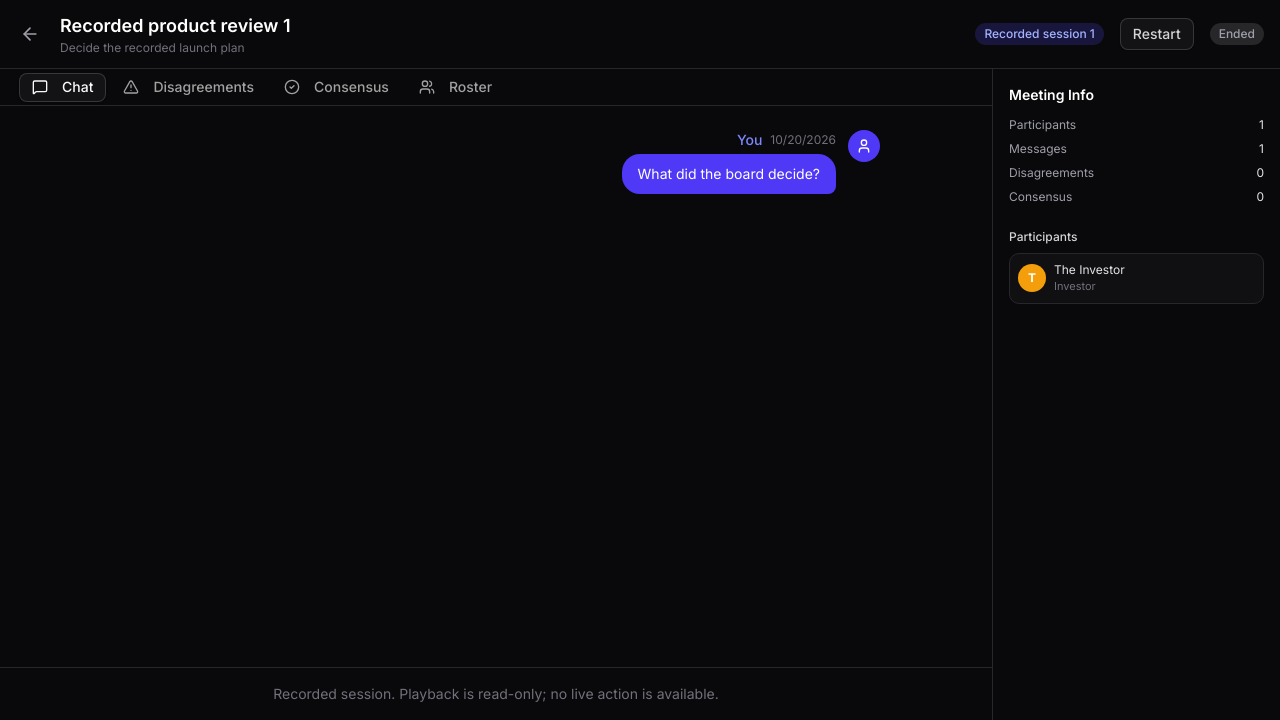
Scenario: recorded replay runtime › restarts into a fresh epoch and replaces recorded records
Expected: the heading "Recorded product review 1" is shown, 60,15 -> 290,36
Click the button "Restart": x=1157, y=34 1120,18 -> 1194,50
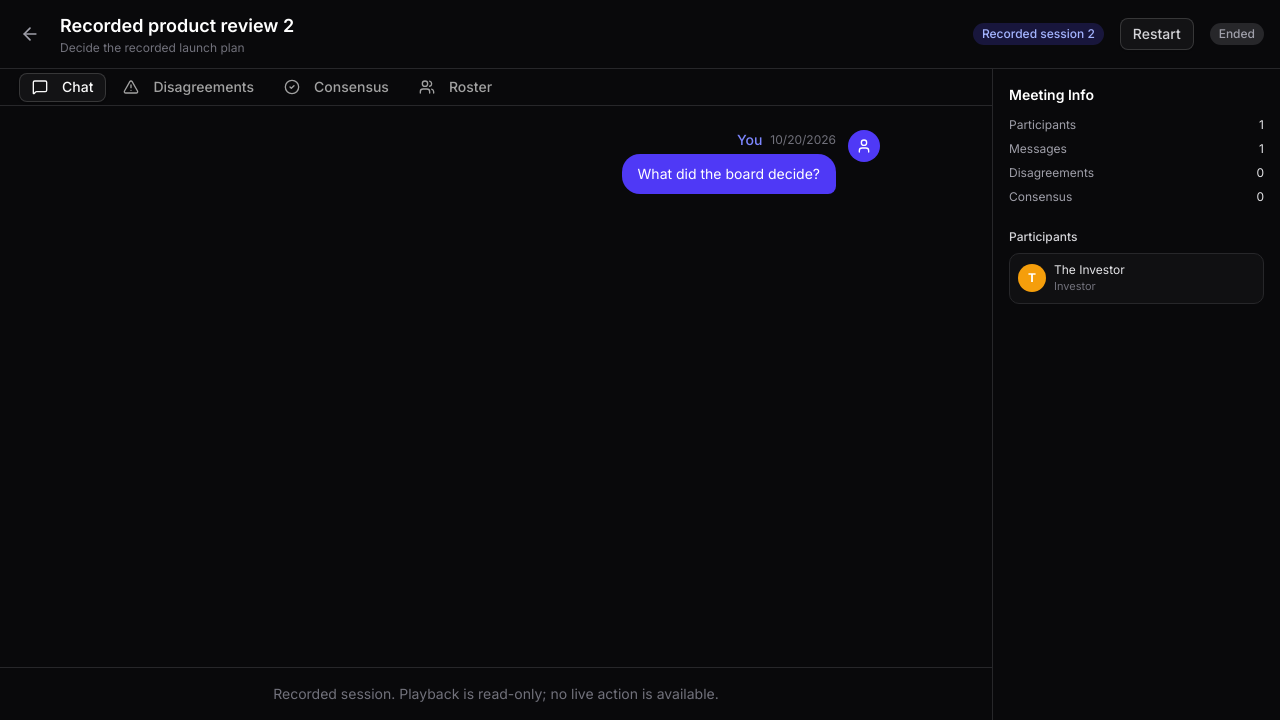
Expected: the heading "Recorded product review 2" is shown, 60,15 -> 294,36
Expected: the heading "Recorded product review 1" is gone
Expected: the text "Recorded session 2" is shown, 973,23 -> 1104,45
